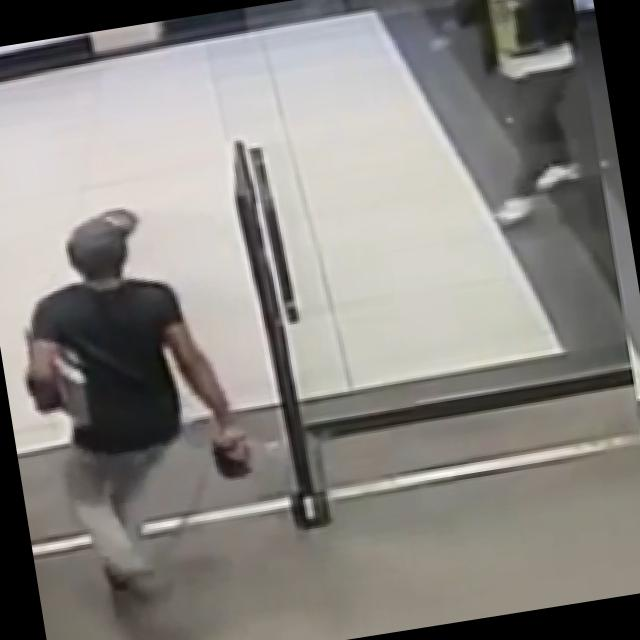person: (4, 193, 274, 604), (445, 0, 606, 228)
